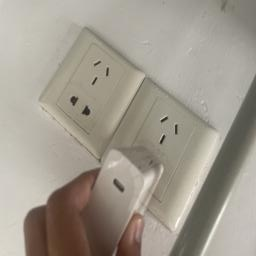outlet: (101, 79, 229, 233), (28, 24, 139, 164)
